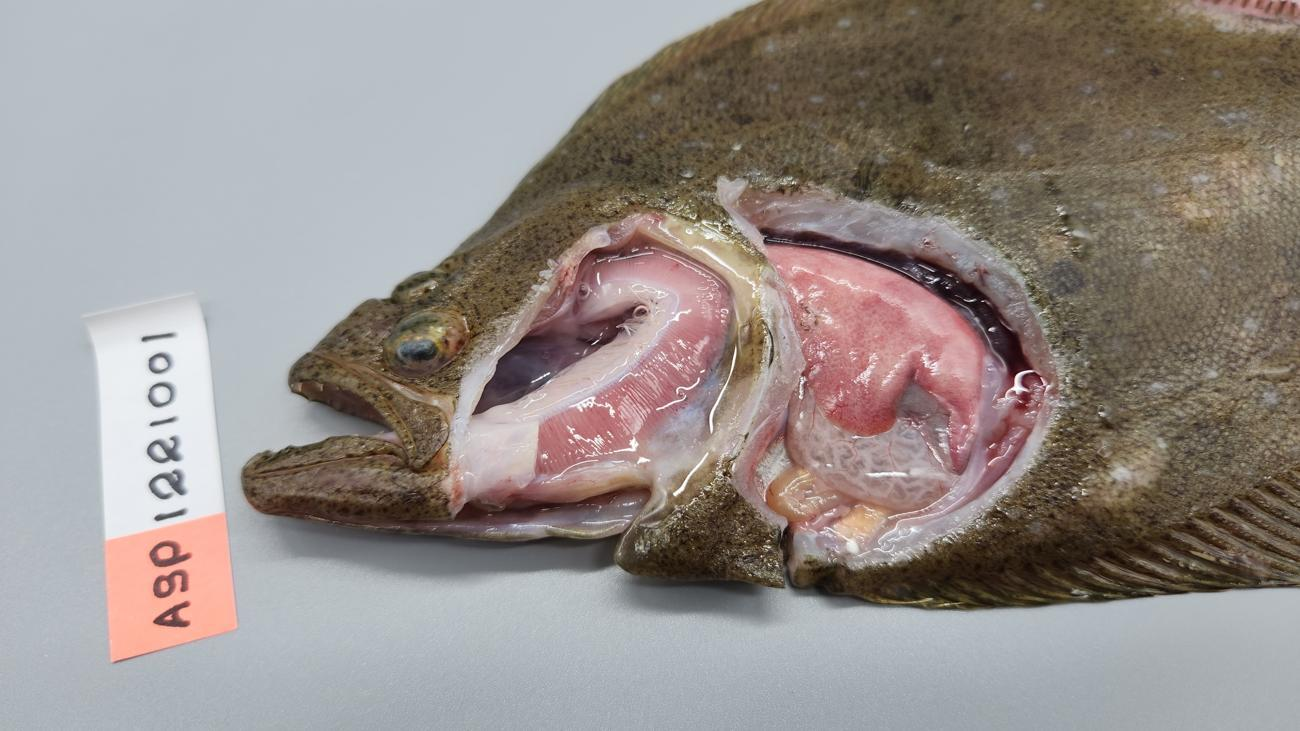SPGIP: (536, 243, 733, 475)
